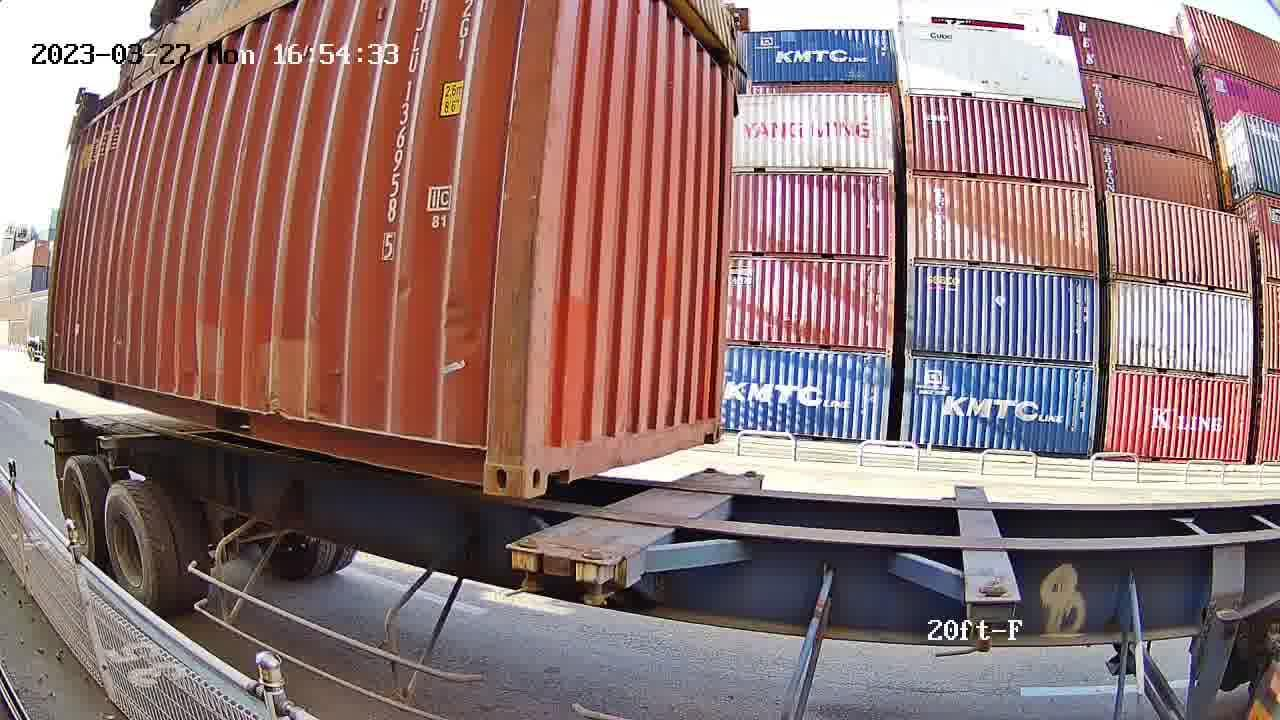Chassis: (572, 473, 761, 587), (505, 471, 720, 554)
Cone: (571, 550, 622, 610), (509, 536, 549, 599)
Hole_L: (523, 416, 575, 500)
Hole_R: (448, 413, 526, 500), (697, 406, 722, 445)
Tire: (105, 484, 157, 611), (62, 462, 98, 569)
